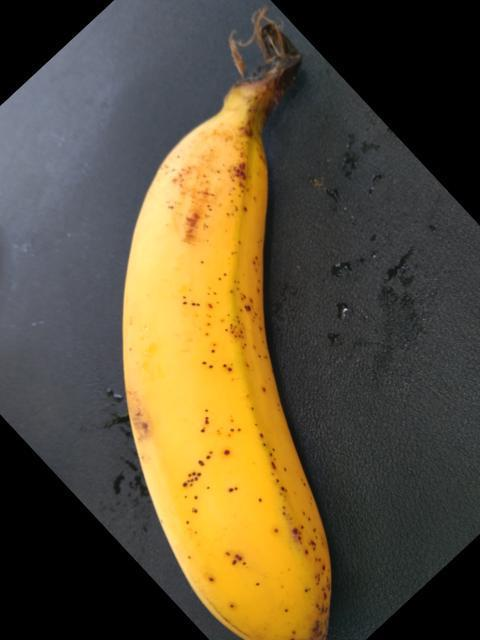ripe: (120, 105, 383, 639)
